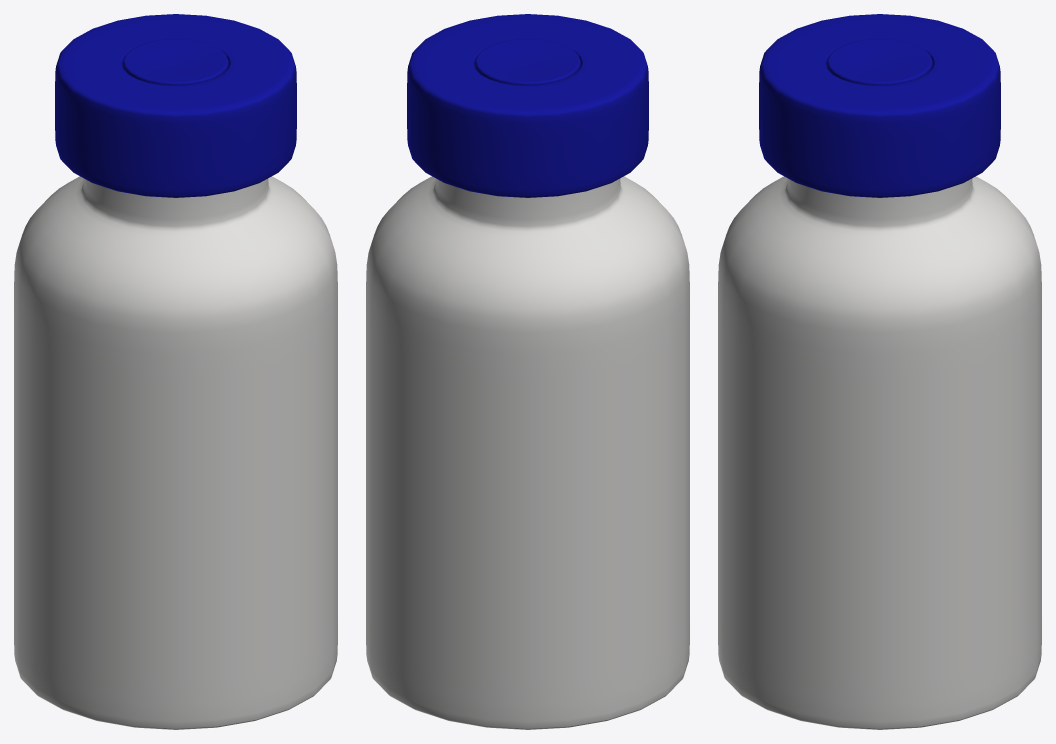
File: NORVELEXTRACT.fbx
3 renders of one model, left to right at view 1: azimuth 30°, elevation 25°; view 2: azimuth 150°, elevation 25°; view 3: azimuth 270°, elevation 25°, orthographic.
Parts seen in each view (by area): view 1: vacineobj; view 2: vacineobj; view 3: vacineobj.
Boxes of the visible parts, left/top/right/bottom form: vacineobj: left=14, top=14, right=337, bottom=729; vacineobj: left=366, top=14, right=689, bottom=729; vacineobj: left=718, top=14, right=1041, bottom=729.
Bounding box in the file's own units: 16.53 × 33.95 × 16.53.
